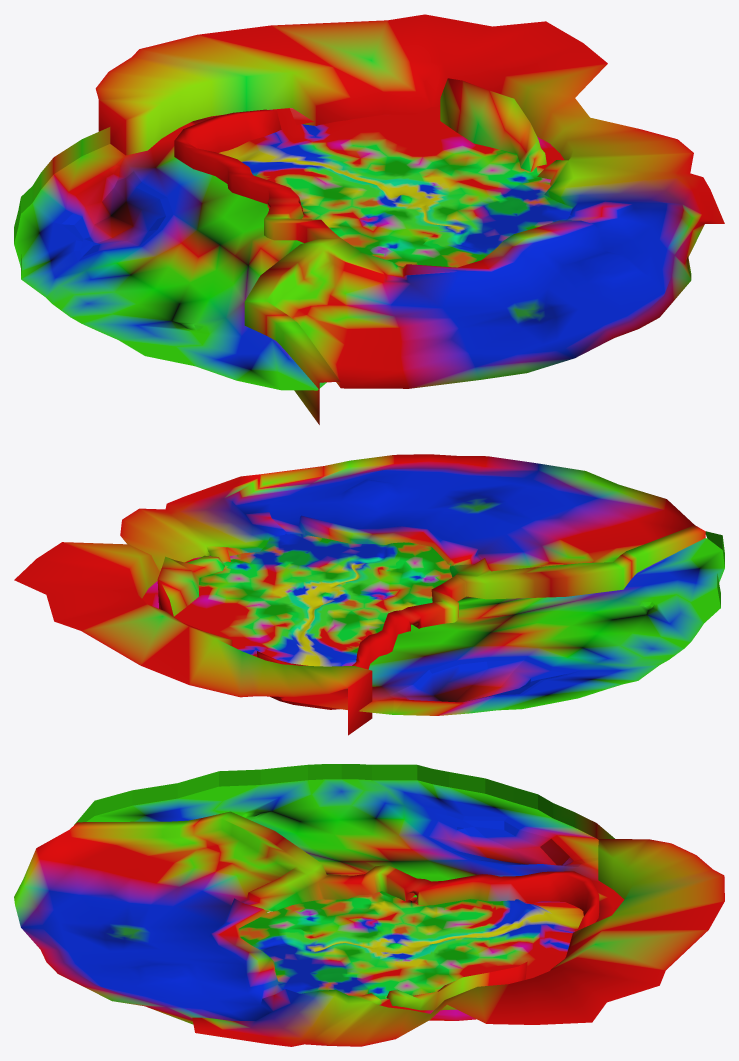
The model's file is island.glb.
The picture shows the model from 3 angles, top to bottom: view 1: azimuth 30°, elevation 25°; view 2: azimuth 150°, elevation 25°; view 3: azimuth 270°, elevation 25°; orthographic projection. The views are drawn at different scales.
Visible parts, largest first — view 1: island, island_part; view 2: island, island_part; view 3: island, island_part.
Part boxes in pixels (x1=…): island: x1=95, y1=14, x2=724, y2=424; island_part: x1=14, y1=108, x2=326, y2=390; island: x1=14, y1=454, x2=705, y2=735; island_part: x1=279, y1=531, x2=724, y2=715; island: x1=14, y1=811, x2=724, y2=1046; island_part: x1=74, y1=764, x2=624, y2=922.
Size of the model in its own units: 190 by 21.67 by 206.
